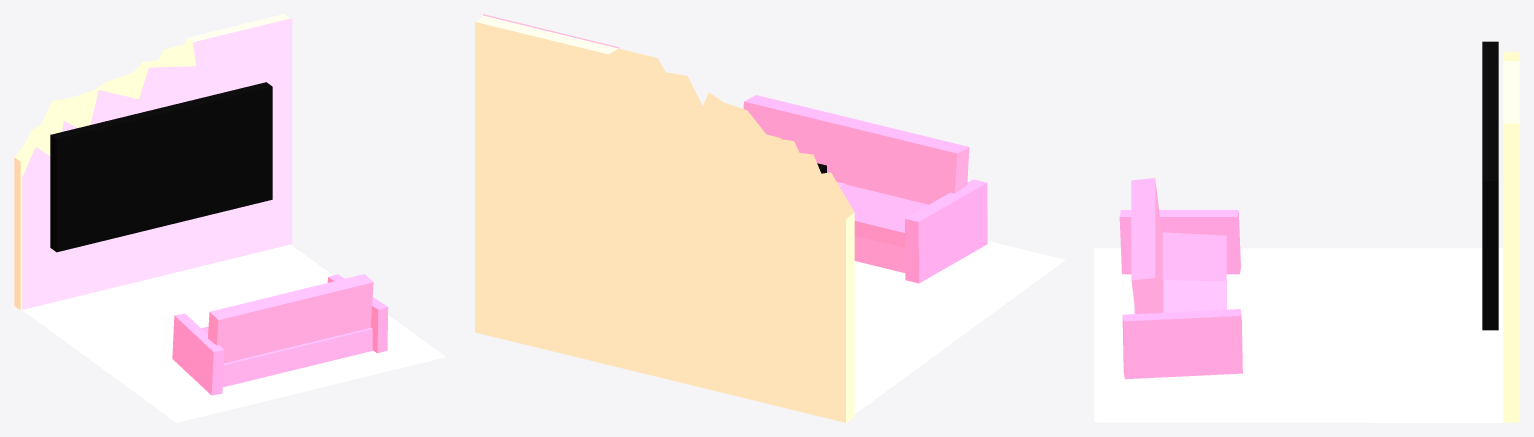
3 views of the same model, side by side, from view 1: azimuth 30°, elevation 25°; view 2: azimuth 150°, elevation 25°; view 3: azimuth 270°, elevation 25° (orthographic). The views are drawn at different scales.
Visible parts, largest first — view 1: mur, Tele, sol, Cube002, Cube, Cube001, Cube005, Cube006; view 2: Cube, sol, Cube002, Cube005, Cube004, Cube001; view 3: sol, Cube006, Cube, Tele, Cube002, Cube005, Cube004, Cube003.
Boxes of the visible parts, x1,y1,x2,y2 form: mur: (22, 18, 292, 309); Tele: (50, 82, 272, 252); sol: (22, 244, 445, 422); Cube002: (208, 274, 373, 363); Cube: (14, 14, 290, 310); Cube001: (222, 327, 372, 387); Cube005: (172, 313, 224, 395); Cube006: (327, 274, 388, 353); Cube: (475, 15, 854, 422); sol: (854, 241, 1065, 413); Cube002: (743, 95, 969, 204); Cube005: (905, 179, 987, 283); Cube004: (840, 184, 928, 247); Cube001: (854, 235, 905, 272); sol: (1094, 248, 1505, 422); Cube006: (1122, 309, 1242, 379); Cube: (1503, 51, 1519, 422); Tele: (1482, 41, 1498, 330); Cube002: (1131, 178, 1162, 313); Cube005: (1119, 210, 1240, 274); Cube004: (1162, 232, 1226, 291); Cube003: (1163, 280, 1226, 312).
Bounding box in the file's own units: 5.02 × 4.01 × 5.17.
